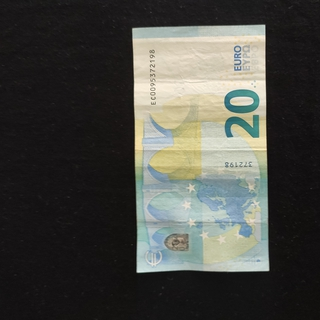20EUROBack: (131, 24, 270, 273)
